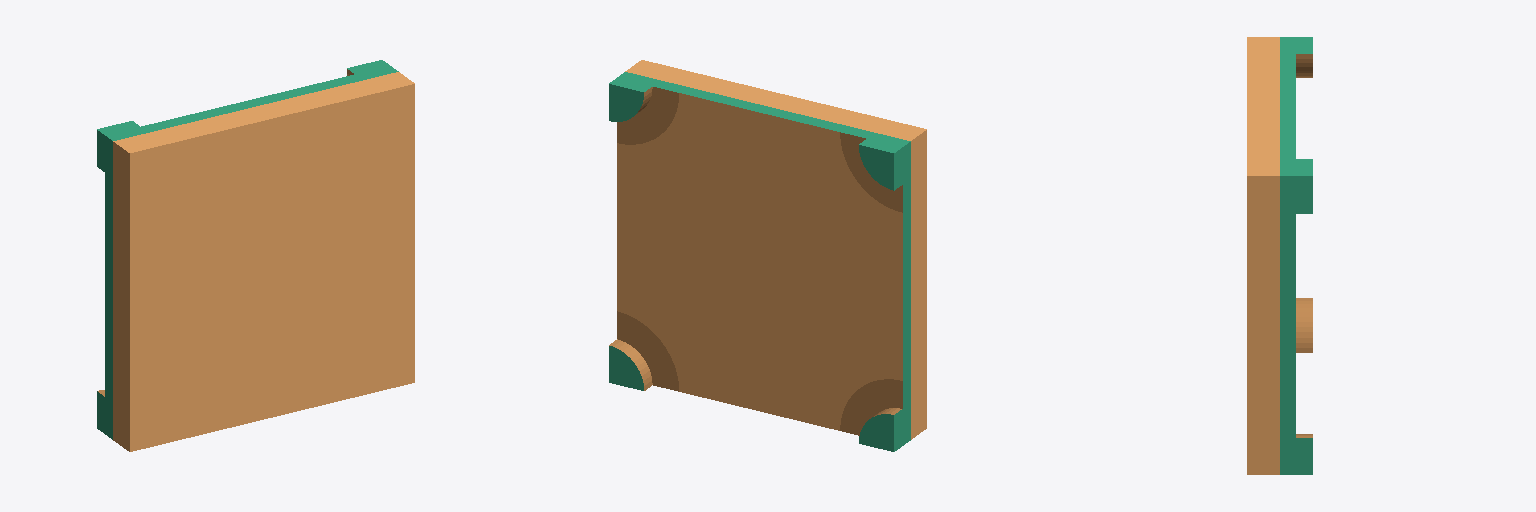
The model's file is tile_crossing.obj.
3 views of the same model, side by side, from view 1: azimuth 30°, elevation 25°; view 2: azimuth 150°, elevation 25°; view 3: azimuth 270°, elevation 25° (orthographic).
Visible parts, largest first — view 1: tile_crossing; view 2: tile_crossing; view 3: tile_crossing.
Boxes of the visible parts, x1,y1,x2,y2 form: tile_crossing: [97, 60, 414, 451]; tile_crossing: [609, 60, 926, 451]; tile_crossing: [1247, 37, 1312, 474].
Bounding box in the file's own units: 1 × 1 × 0.2.